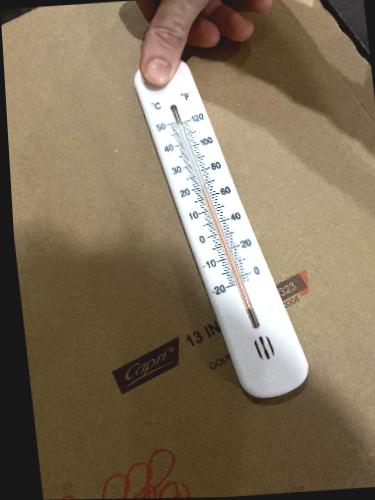thermo: (129, 50, 313, 400)
